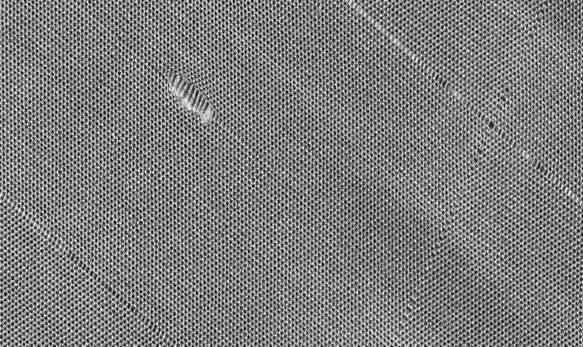slub: (159, 61, 223, 128)
